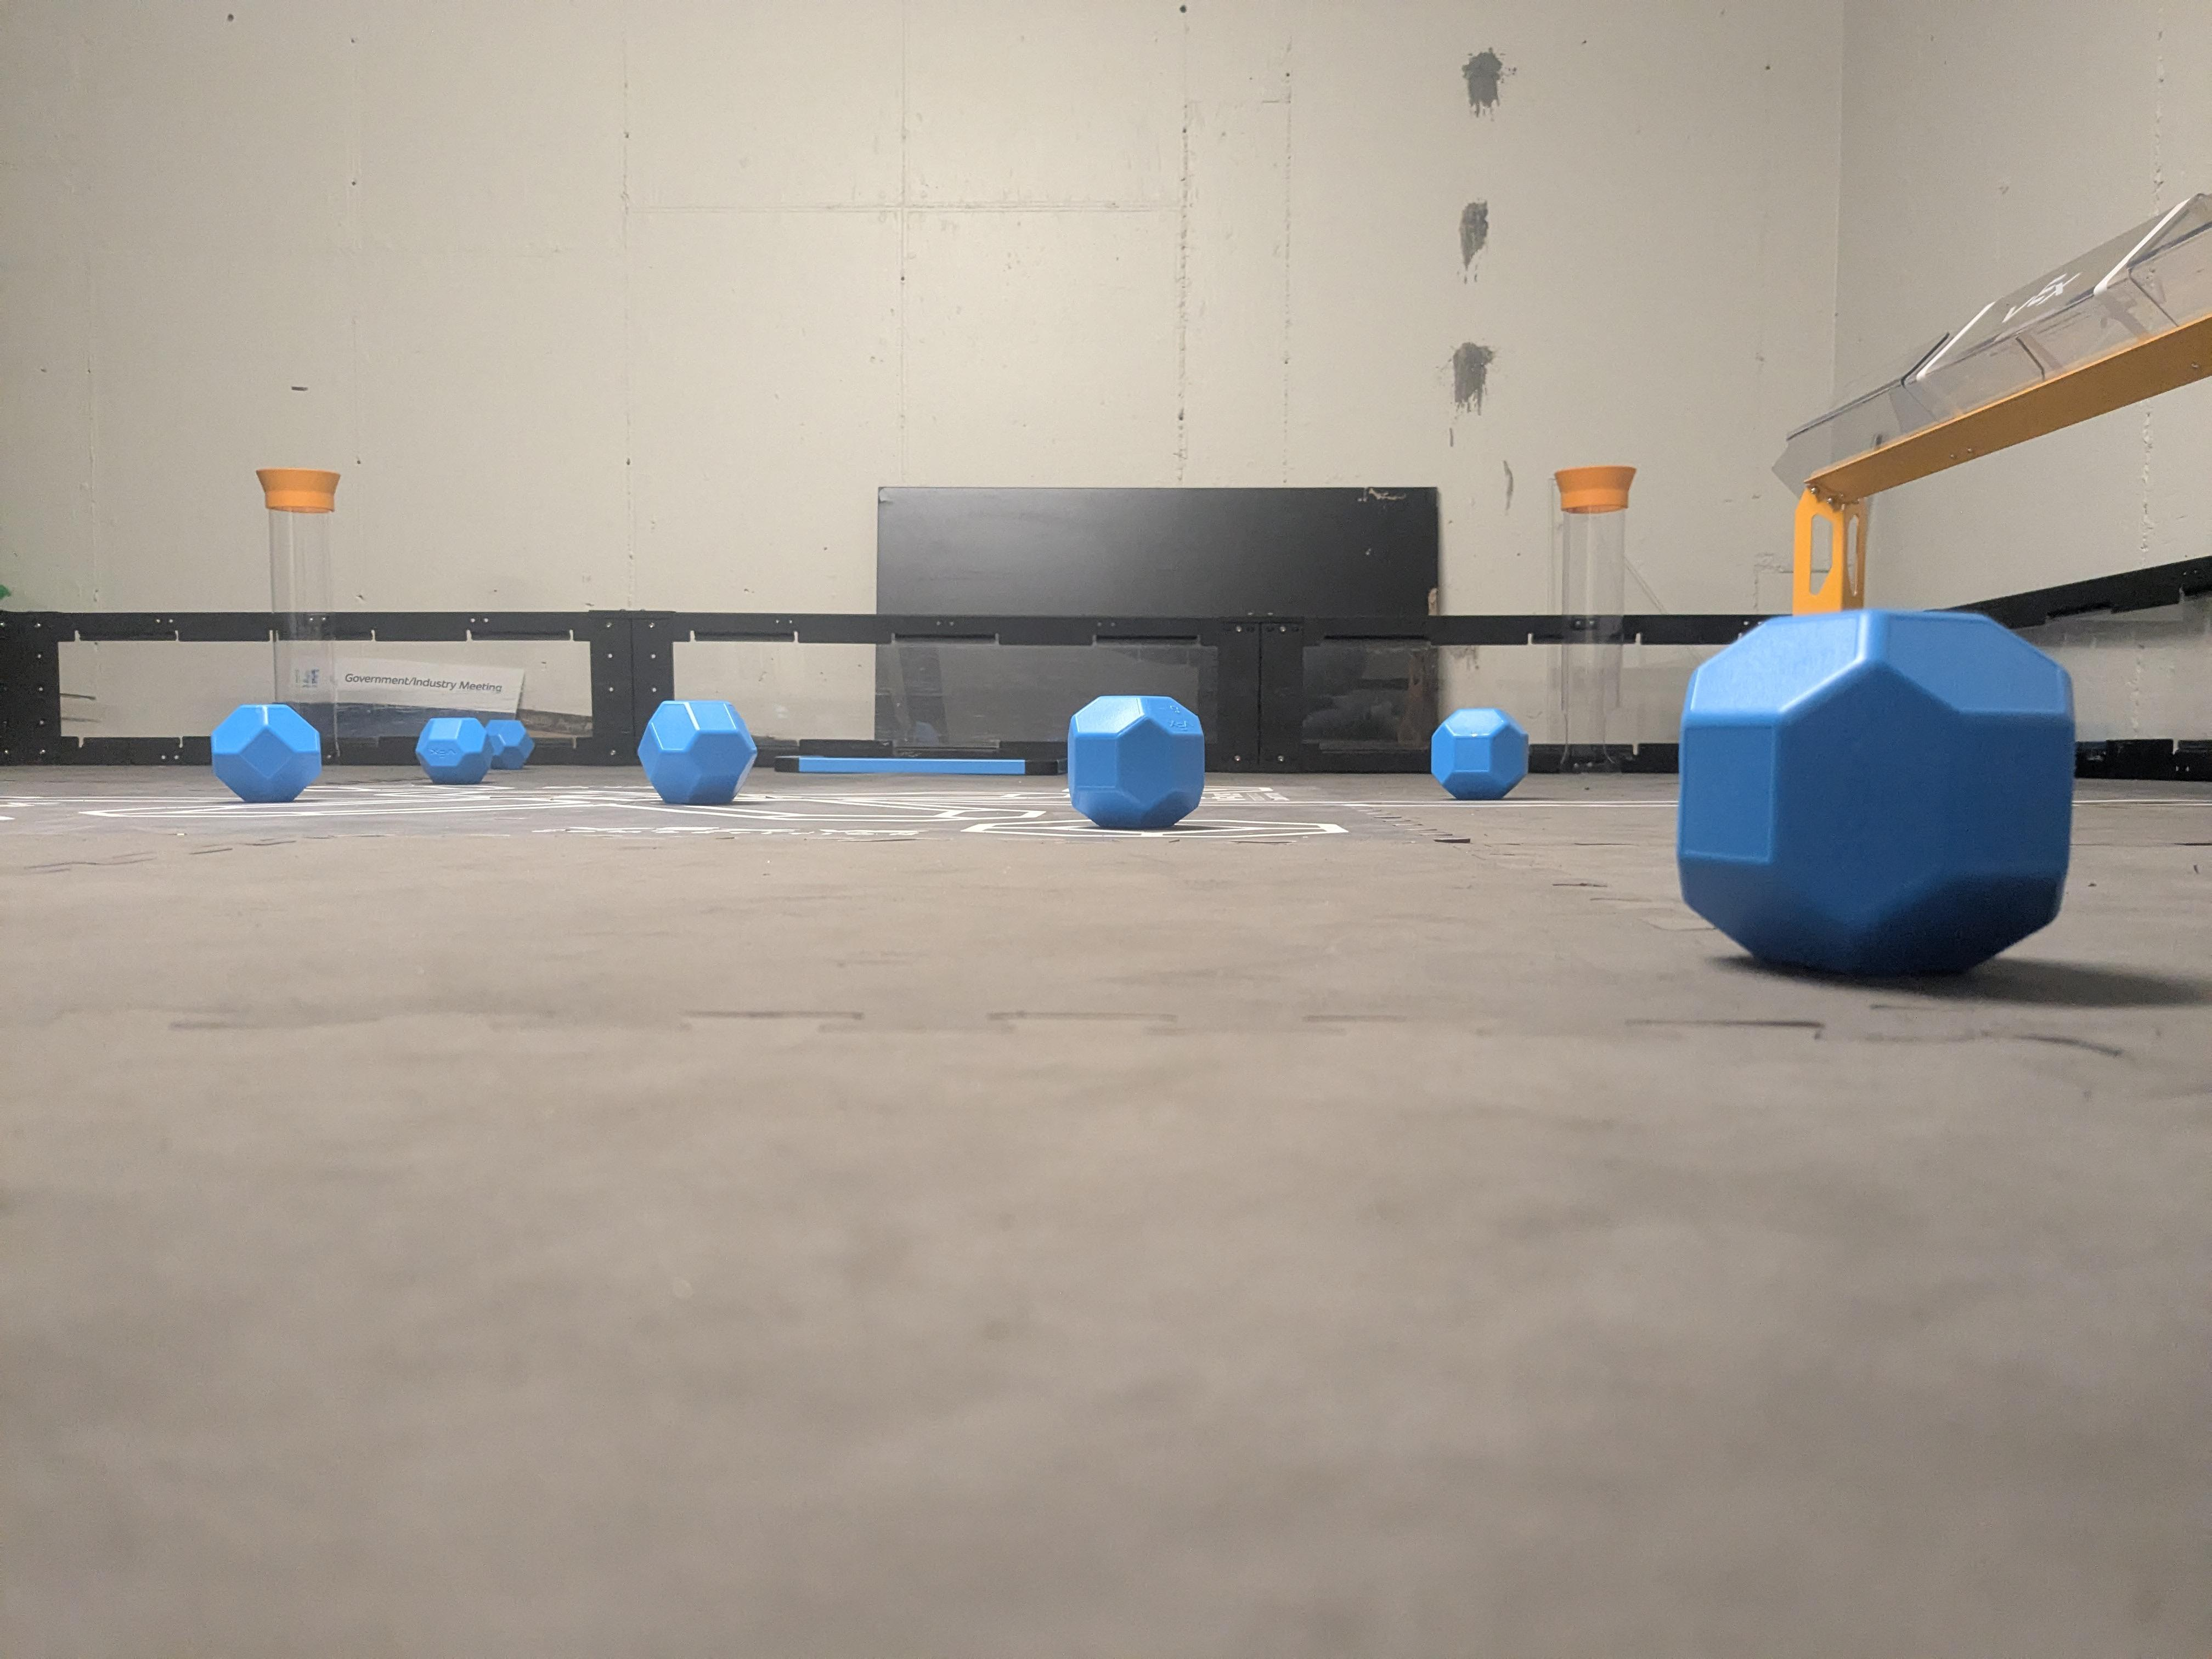Vex-Pieces-BLUE: (1679, 608, 2074, 978), (1068, 694, 1202, 826), (639, 699, 752, 805), (211, 704, 320, 805), (1430, 708, 1529, 795), (418, 718, 533, 784)
